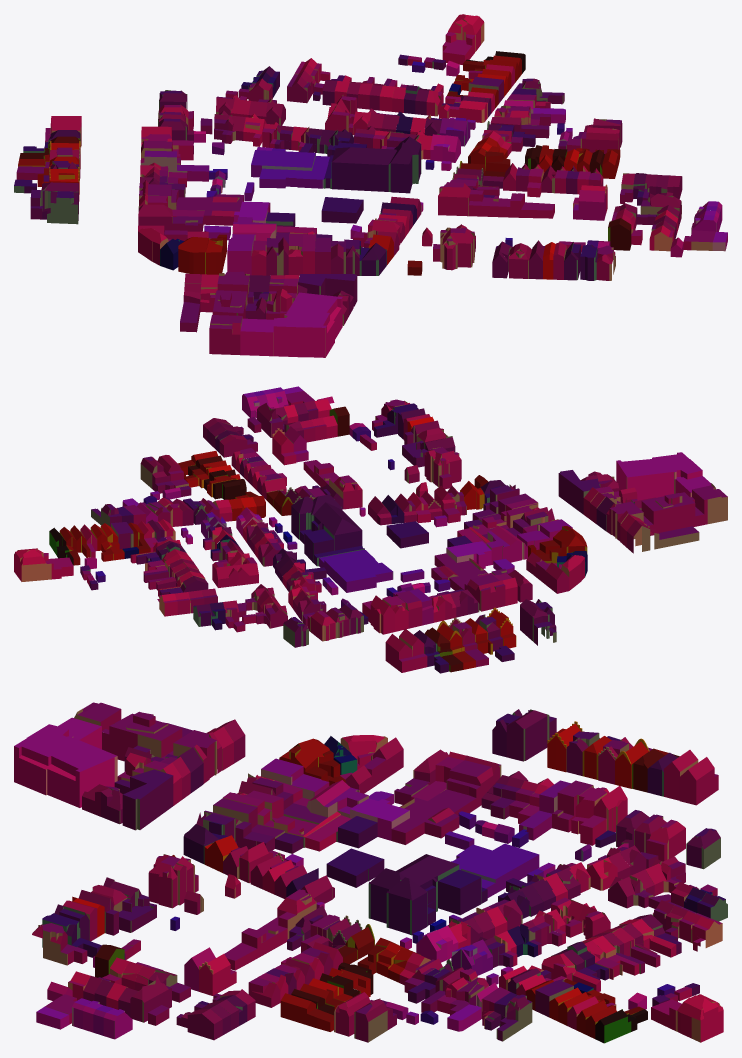
The model's file is buildings_6_7.glb.
3 views of the same model, one above another, from view 1: azimuth 30°, elevation 25°; view 2: azimuth 150°, elevation 25°; view 3: azimuth 270°, elevation 25° (orthographic). The views are drawn at different scales.
Visible parts, largest first — view 1: buildings_6_7; view 2: buildings_6_7; view 3: buildings_6_7.
Part boxes in pixels (box(x1,y1,x2,y2)): buildings_6_7: box(14, 14, 727, 357); buildings_6_7: box(14, 386, 727, 673); buildings_6_7: box(14, 702, 727, 1043).
Bounding box in the file's own units: 218 × 16.08 × 212.
